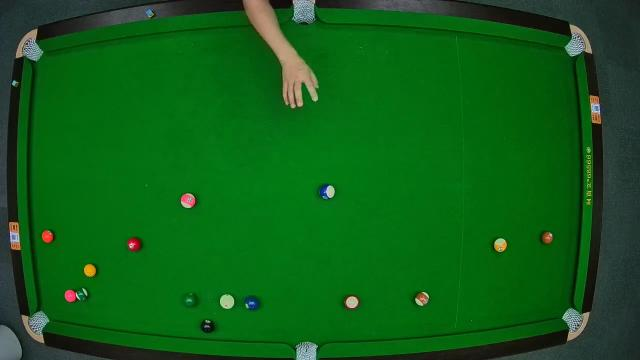bag1: (22, 40, 42, 60)
bag2: (293, 1, 317, 23)
bag3: (568, 34, 586, 56)
bag4: (28, 308, 48, 332)
bag5: (294, 340, 320, 360)
bag6: (562, 308, 582, 330)
ball0: (220, 293, 234, 309)
ball1: (84, 263, 98, 277)
ball10: (319, 184, 335, 200)
ball11: (344, 294, 360, 310)
ball12: (180, 193, 196, 209)
ball14: (74, 287, 88, 301)
ball15: (414, 290, 430, 306)
ball2: (244, 295, 260, 311)
ball3: (126, 236, 142, 252)
ball4: (65, 288, 77, 302)
ball5: (41, 229, 54, 243)
ball6: (182, 292, 198, 308)
ball7: (541, 231, 553, 245)
ball8: (200, 319, 214, 333)
ball9: (494, 238, 508, 253)
